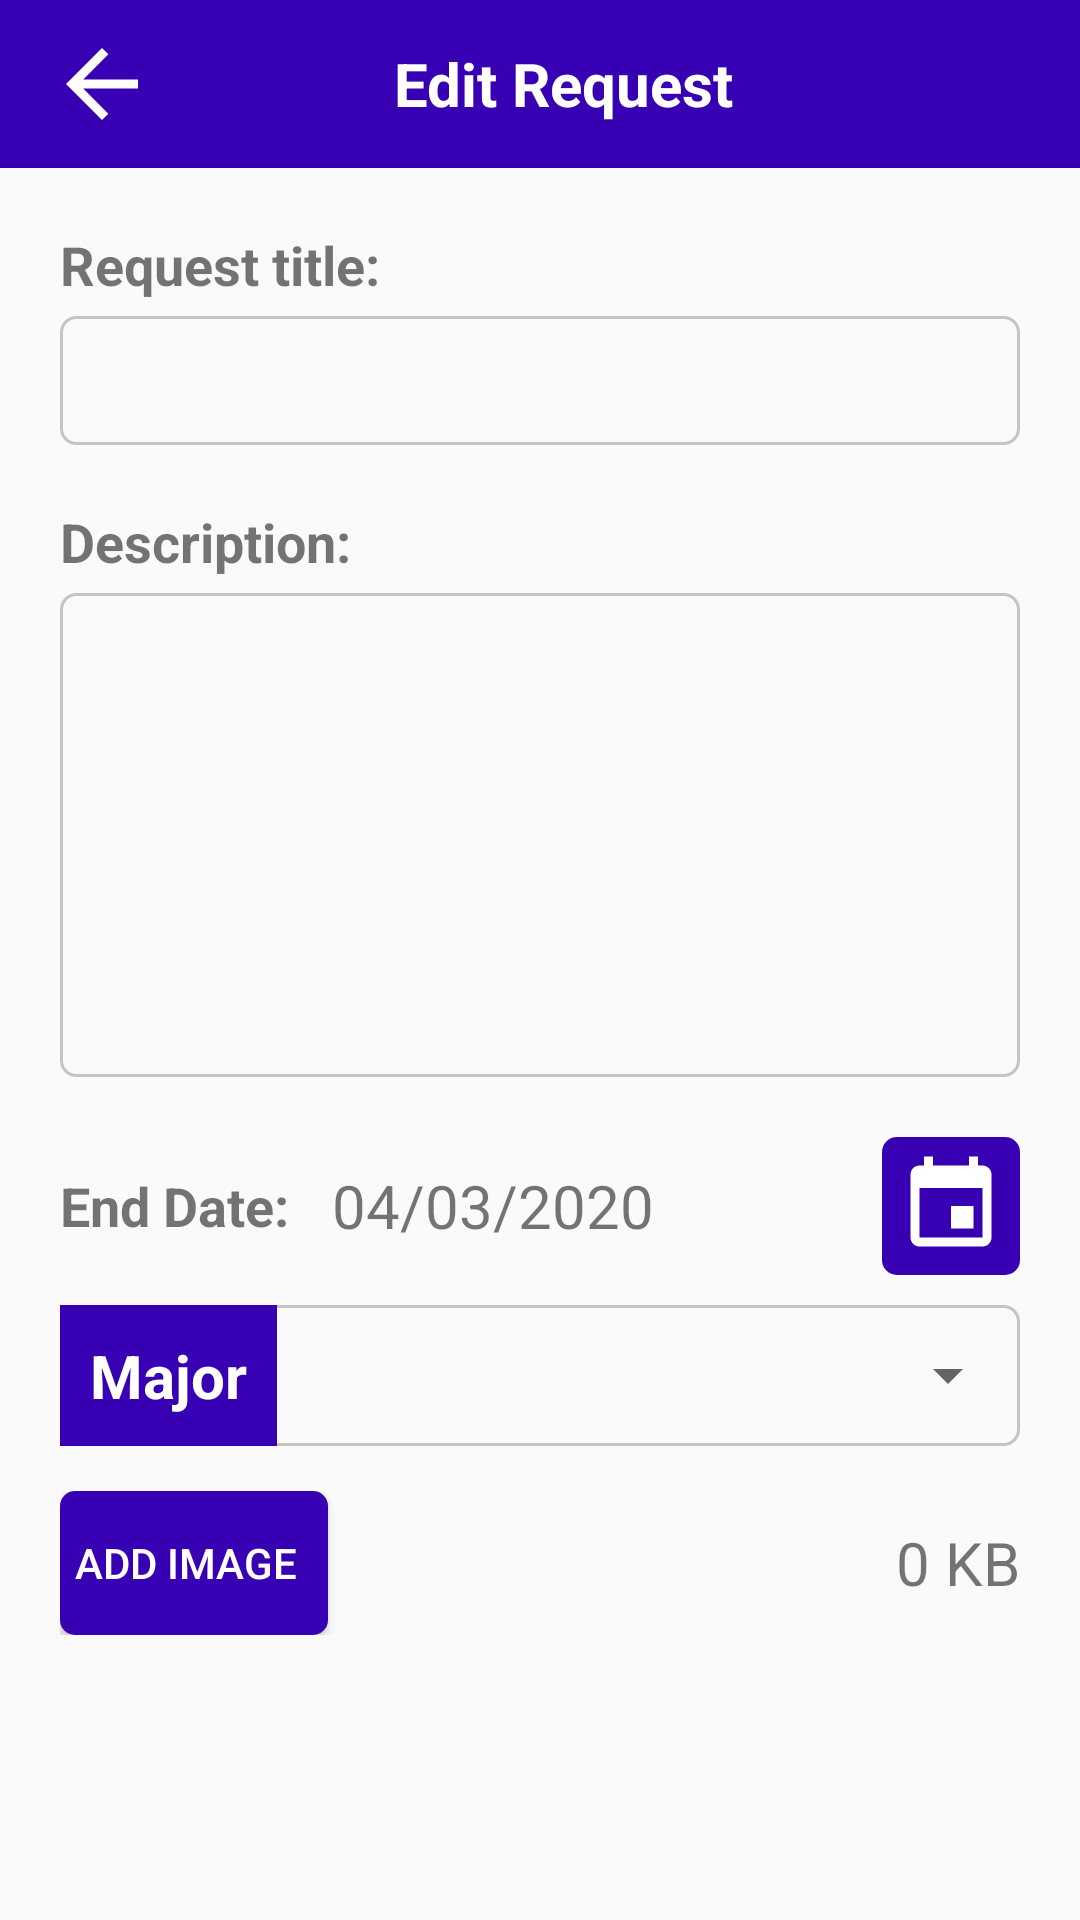

Icons on this 1080 × 1920 Android screen, each with the point to tap as point (x, y):
back: point (102, 84)
insert invitation: point (951, 1206)
